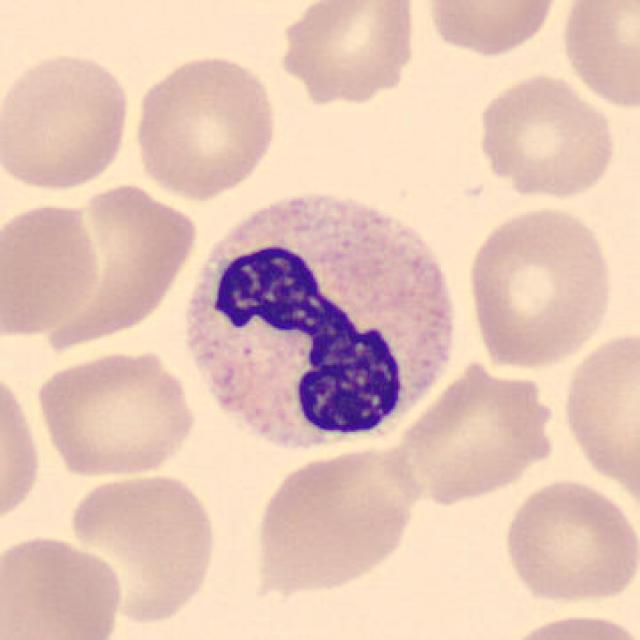Neutrophil: (176, 182, 462, 464)
RBC: (7, 178, 201, 354), (249, 439, 421, 598), (462, 201, 617, 372), (388, 356, 562, 506), (64, 467, 220, 626), (130, 49, 281, 203), (30, 346, 199, 482), (471, 69, 621, 203), (0, 48, 135, 194), (498, 474, 638, 608), (274, 0, 423, 106), (0, 198, 105, 342), (558, 322, 638, 508), (0, 530, 128, 640), (556, 0, 640, 113), (422, 0, 566, 60), (0, 361, 44, 535), (498, 608, 640, 640)
